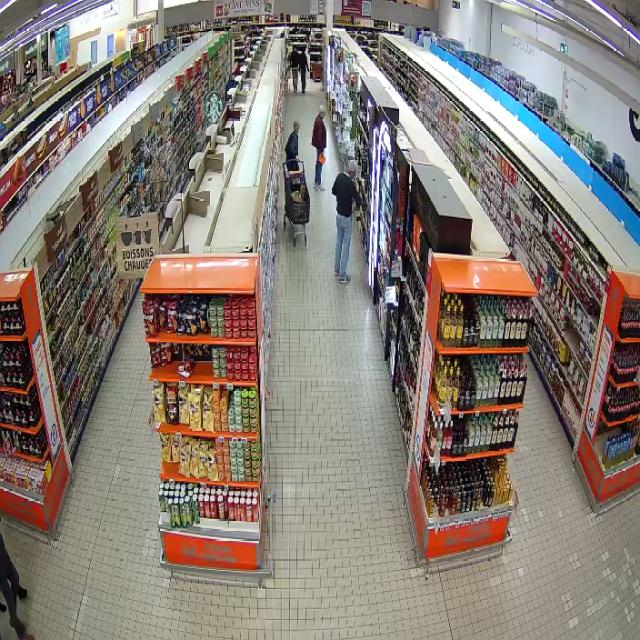article: (318, 153, 326, 165)
hands: (322, 152, 324, 156)
person: (332, 160, 361, 282), (312, 106, 326, 189)
